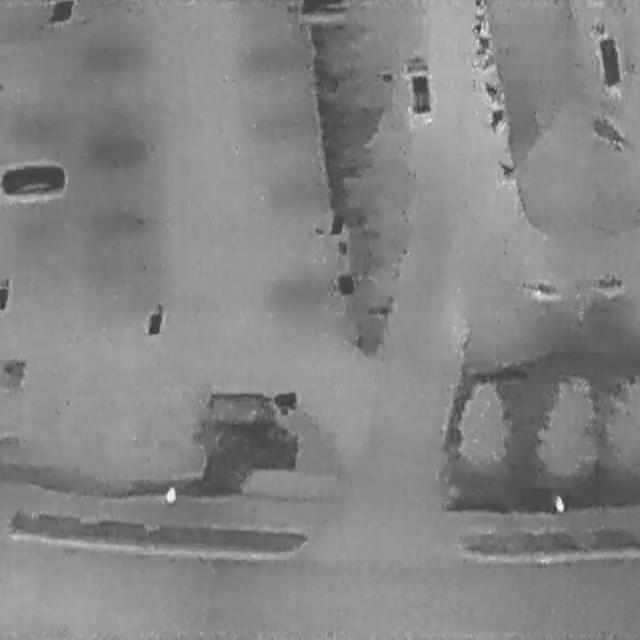Car: (1, 160, 64, 199), (403, 52, 432, 116)
